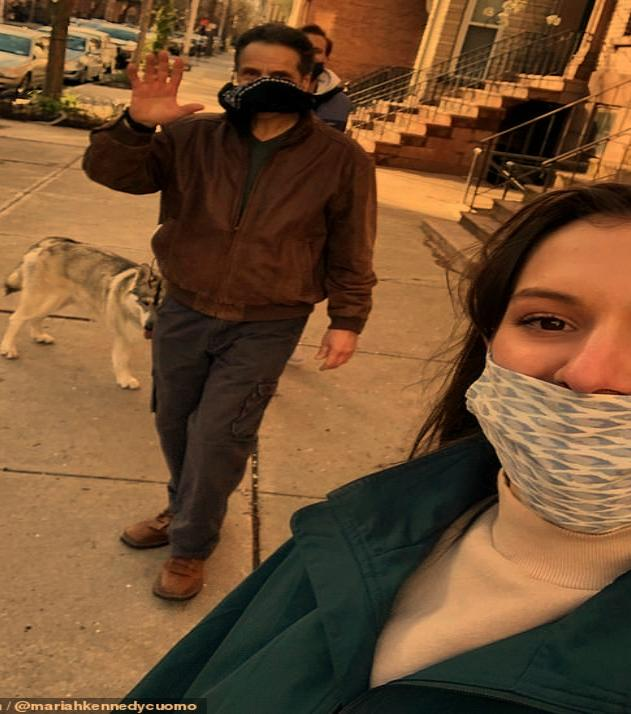mask_weared_incorrect: (461, 177, 630, 532)
